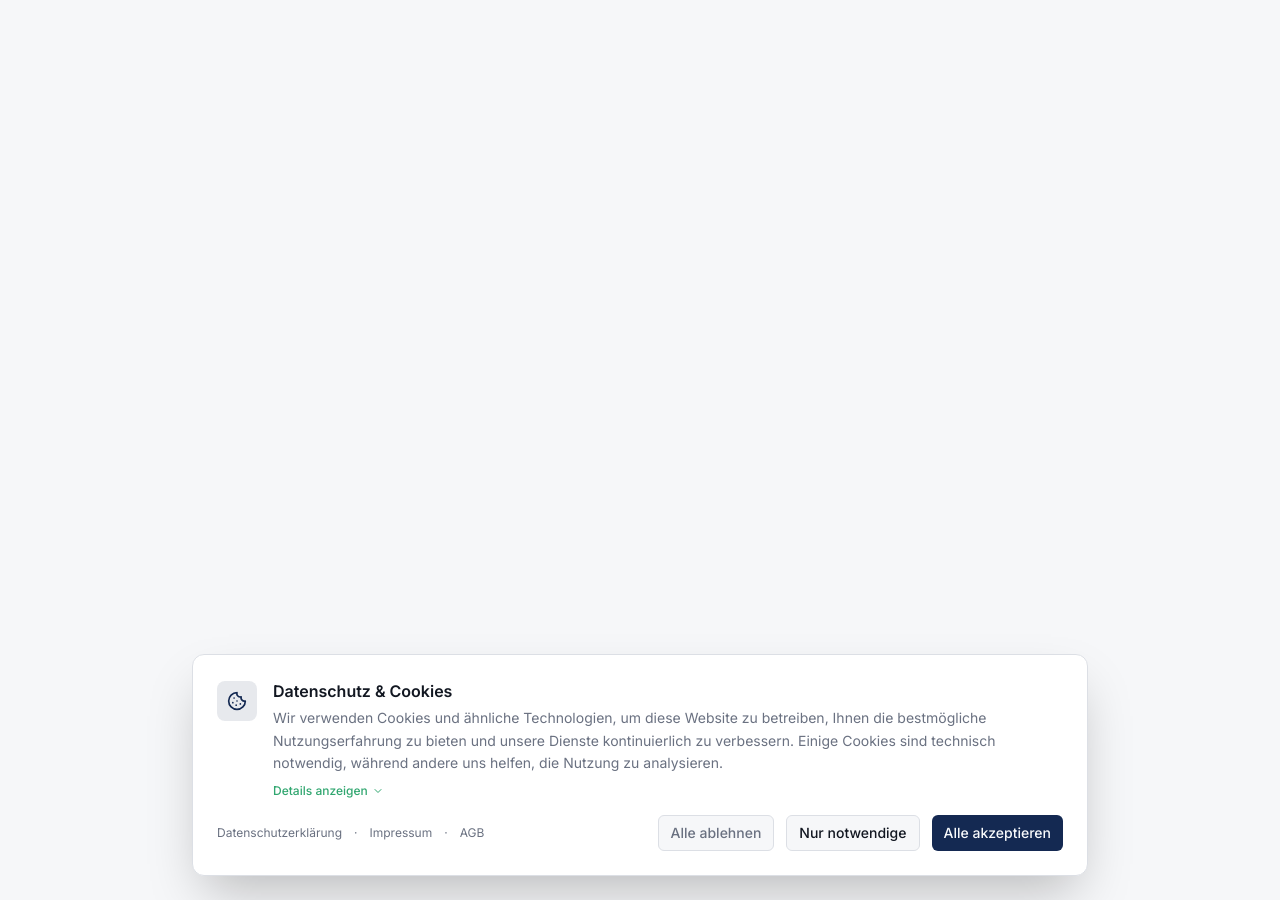
Test: CookieConsent › toggles details section
The image size is (1280, 900).
Step 1. Click the button "Details anzeigen" → (328, 791), box x1=273 y1=783 x2=384 y2=799
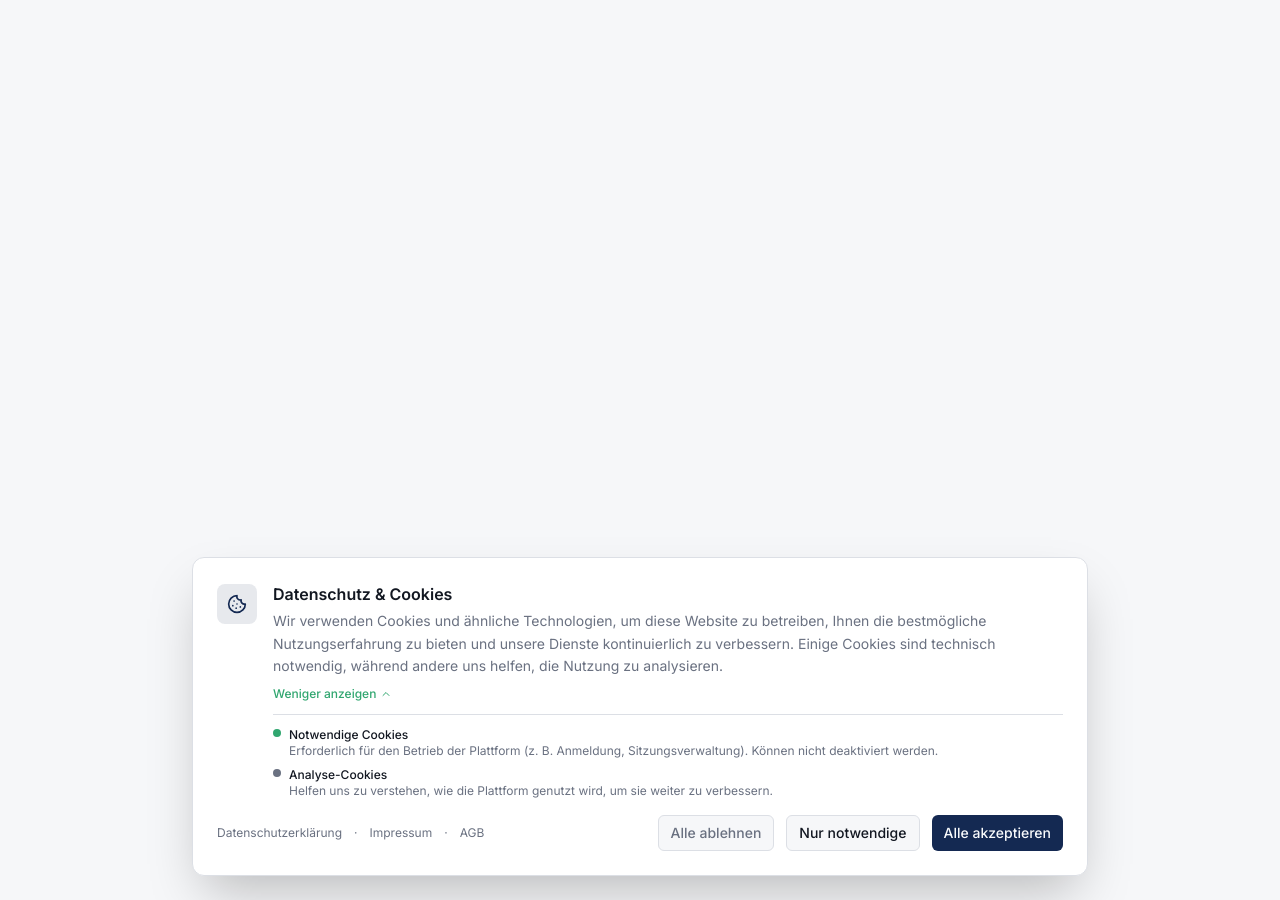
Expected: the text "Notwendige Cookies" is shown, x1=289 y1=727 x2=408 y2=742
Expected: the text "Analyse-Cookies" is shown, x1=289 y1=767 x2=387 y2=782
